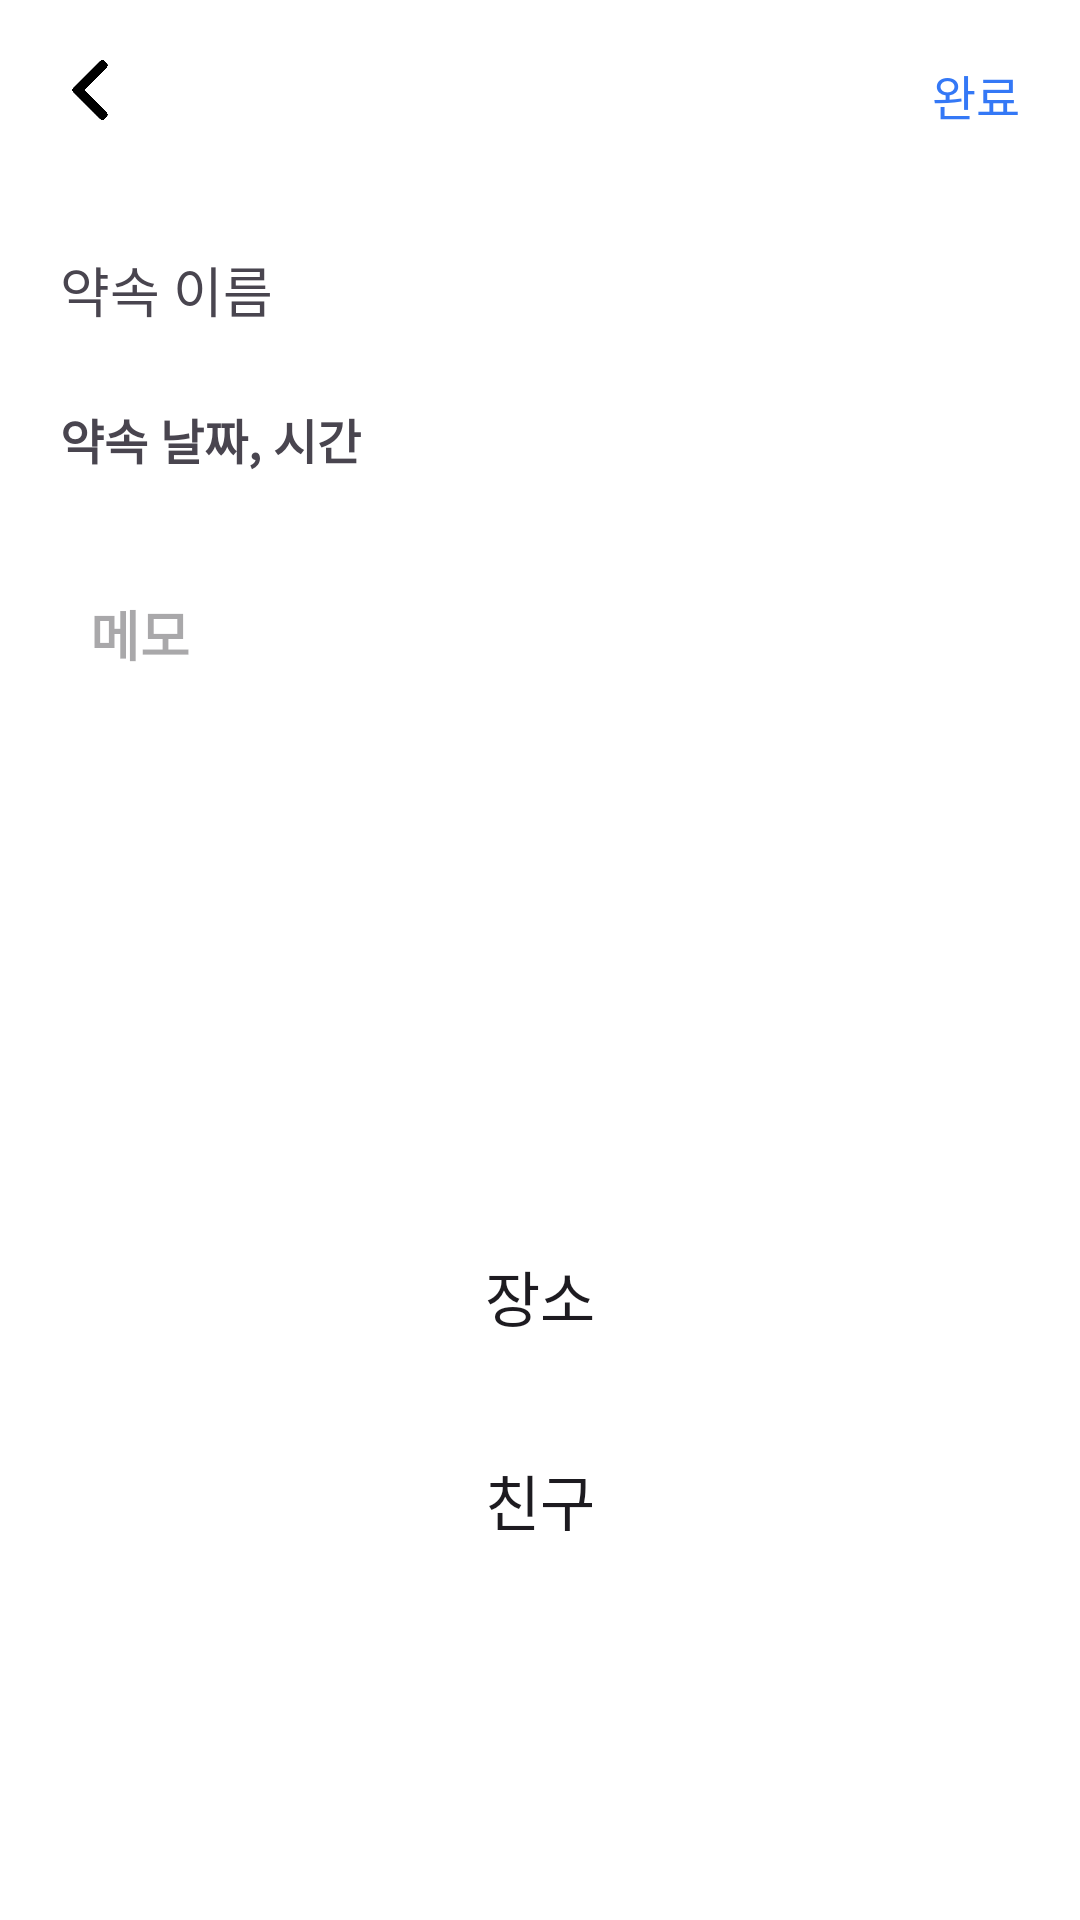

Where icons sit on this 1080w x 1920h app screen, as (left=x1, top=y1, right=x2, bottom=y2):
left arrow: (left=72, top=60, right=108, bottom=120)
